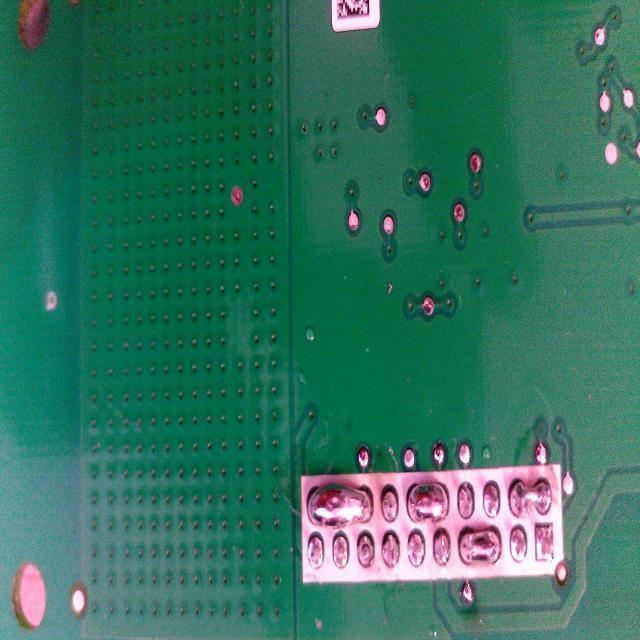Soldering shorted: (306, 478, 374, 530), (406, 480, 450, 528), (458, 524, 502, 572), (509, 473, 554, 519)
